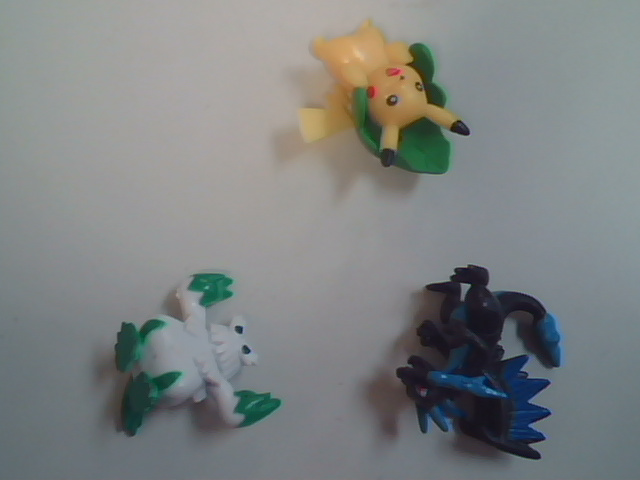abomasnow: (67, 253, 299, 458)
charizard: (372, 267, 597, 466)
pikachu: (282, 12, 506, 223)
